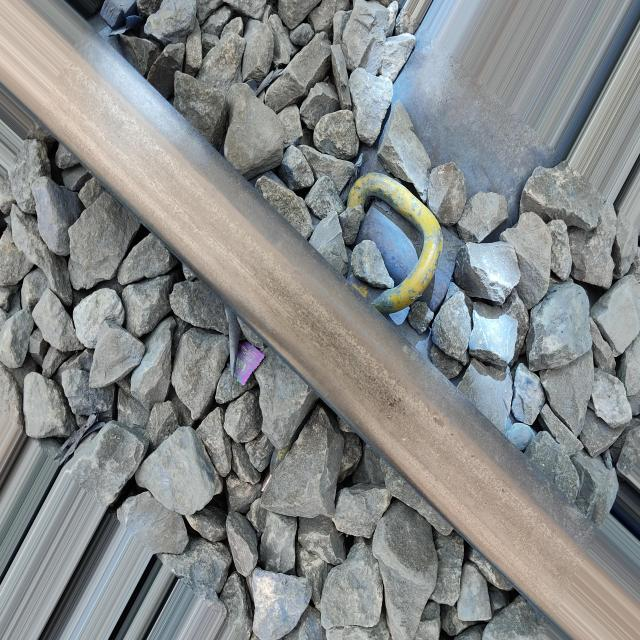Good Fasteners: (335, 158, 476, 331)
